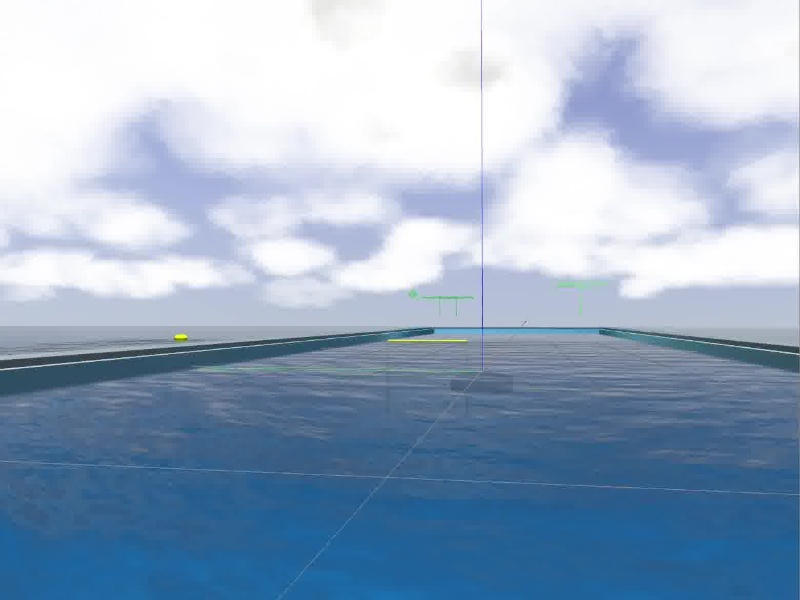gate: (380, 338, 472, 418)
